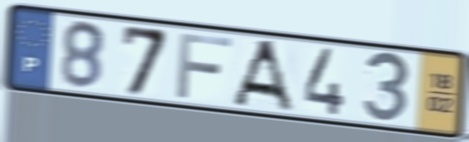3: (361, 48, 412, 127)
4: (303, 46, 346, 117)
7: (119, 22, 169, 98)
8: (58, 18, 107, 91)
A: (229, 37, 297, 115)
F: (174, 31, 235, 101)
